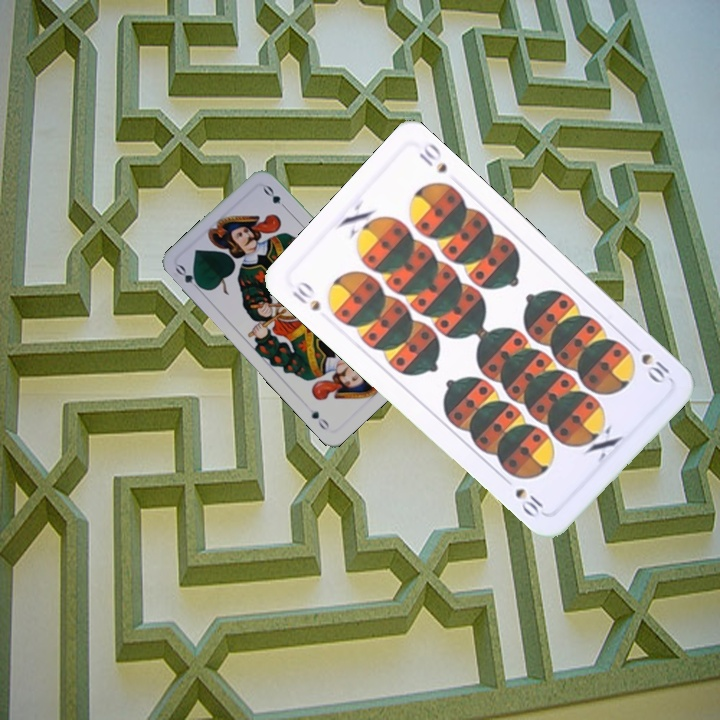GO: (171, 261, 206, 295)
S10: (626, 337, 672, 387), (288, 277, 323, 314)
